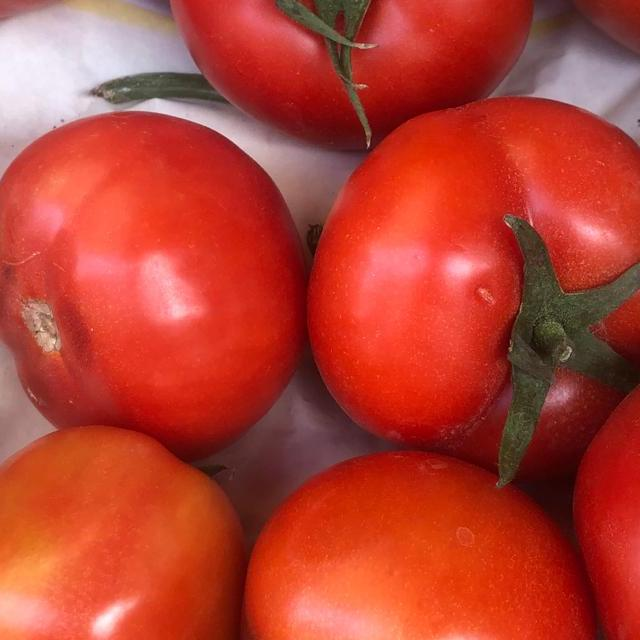tomato: (287, 65, 640, 490), (0, 85, 335, 467), (195, 407, 630, 640), (152, 0, 560, 155)
